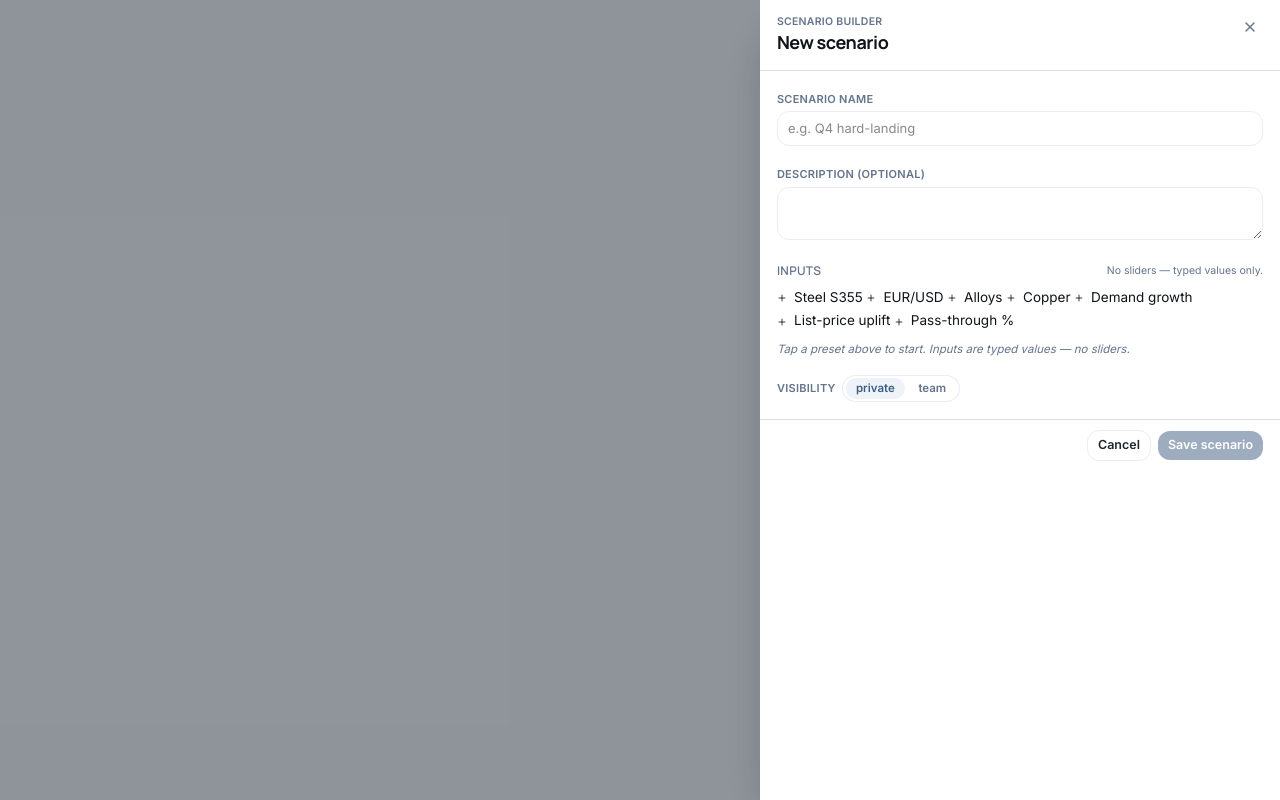
Test: ScenarioBuilder validation (Phase 5) › save button is disabled until the name is non-empty
Expected: the button with test id "scenario-save" is disabled, left=1158, top=431, right=1263, bottom=460
Type "X" into the field with test id "scenario-name" at (1020,129), box left=777, top=111, right=1263, bottom=146
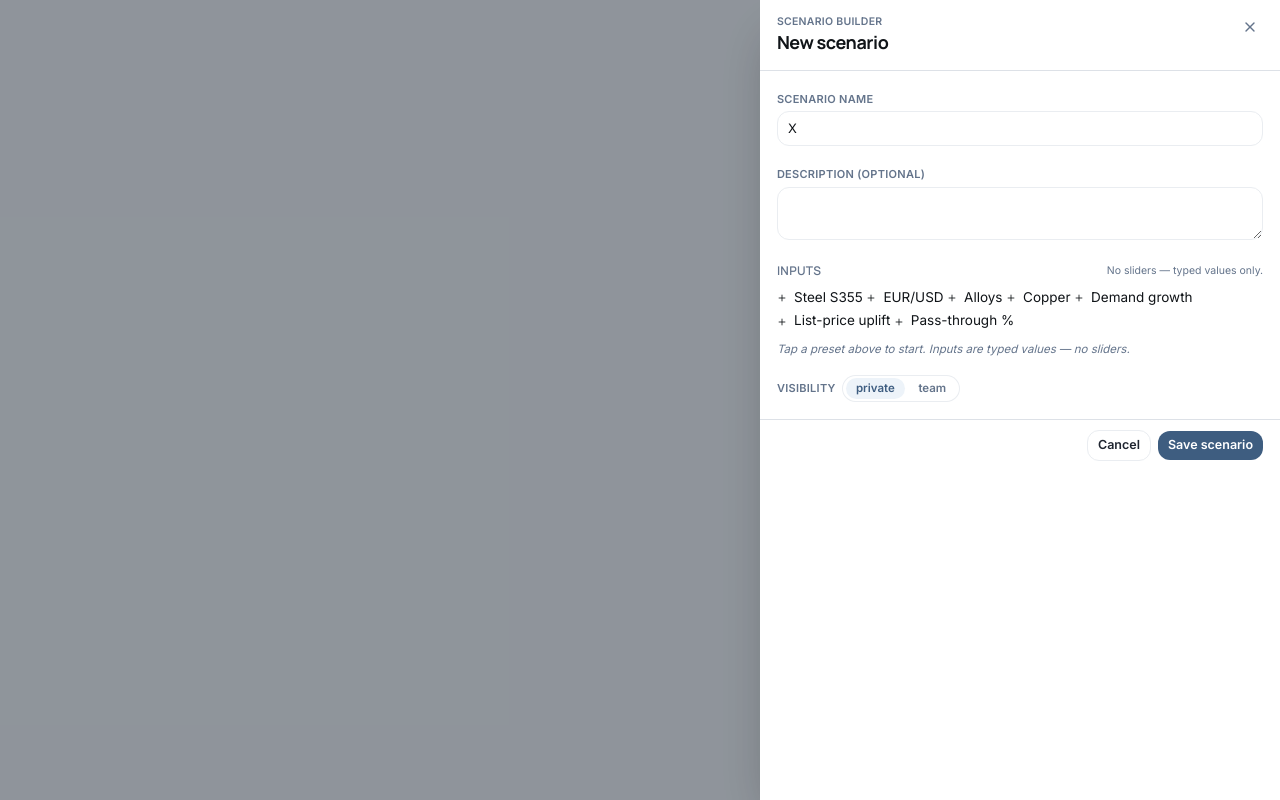
Result: the button with test id "scenario-save" is enabled at left=1158, top=431, right=1263, bottom=460
